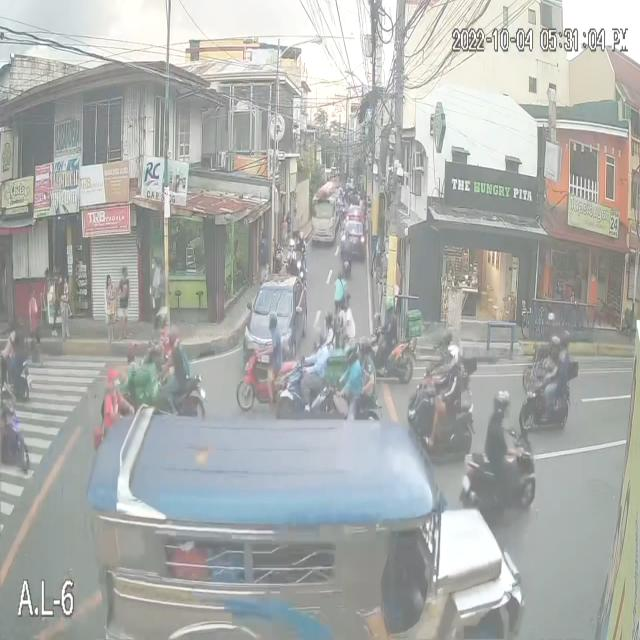Full-Faced: (492, 389, 512, 419), (444, 344, 465, 366), (435, 324, 449, 354), (356, 333, 371, 359), (342, 338, 359, 359), (547, 334, 562, 356), (165, 326, 180, 346), (267, 313, 280, 336), (379, 296, 395, 314), (13, 316, 26, 338), (562, 326, 572, 350), (340, 288, 350, 312), (5, 317, 14, 342), (337, 268, 348, 286), (296, 229, 308, 243), (288, 240, 296, 259), (342, 229, 353, 242), (324, 313, 333, 327)
Invalid: (102, 369, 120, 392)
